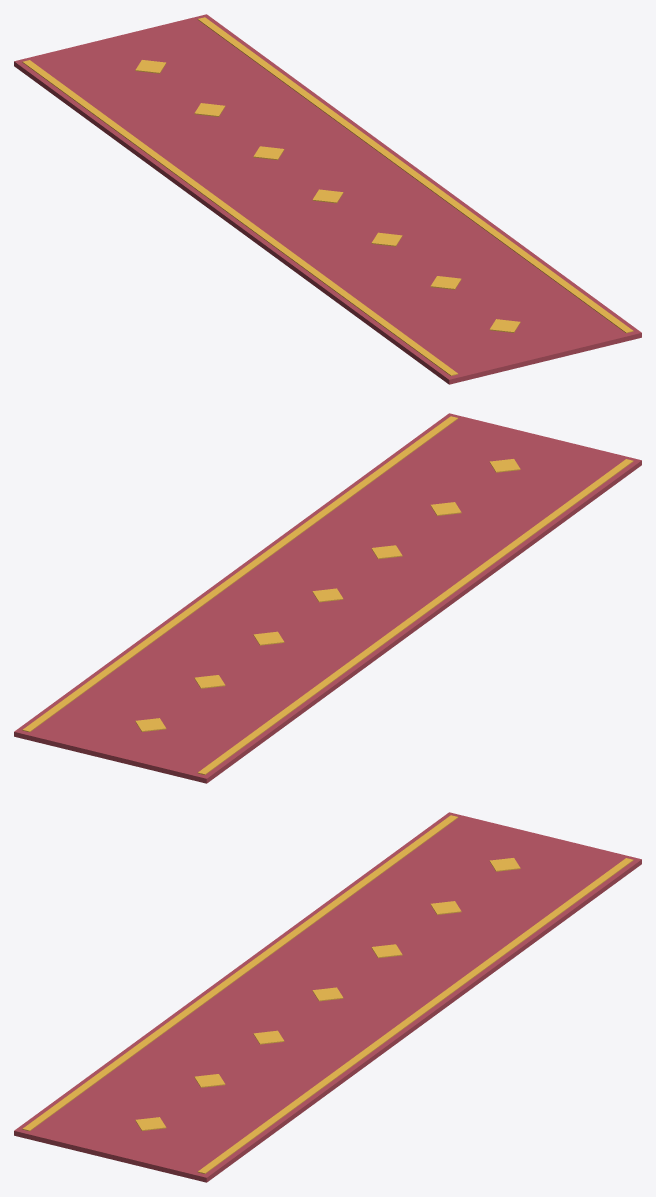
The picture shows the model from 3 angles, top to bottom: view 1: azimuth 30°, elevation 25°; view 2: azimuth 150°, elevation 25°; view 3: azimuth 330°, elevation 25°; orthographic projection.
Parts seen in each view (by area): view 1: Aisle runner, Woven gold border, Woven gold border.001; view 2: Aisle runner, Woven gold border, Woven gold border.001; view 3: Aisle runner, Woven gold border, Woven gold border.001.
Part boxes in pixels (<box>): Aisle runner: <box>14,14,641,384</box>; Woven gold border: <box>22,60,457,375</box>; Woven gold border.001: <box>197,17,633,333</box>; Aisle runner: <box>14,413,641,783</box>; Woven gold border: <box>198,459,633,774</box>; Woven gold border.001: <box>22,416,458,732</box>; Aisle runner: <box>14,812,641,1182</box>; Woven gold border: <box>22,815,458,1131</box>; Woven gold border.001: <box>198,858,633,1173</box>.
Bounding box in the file's own units: 66 × 1.95 × 258.
